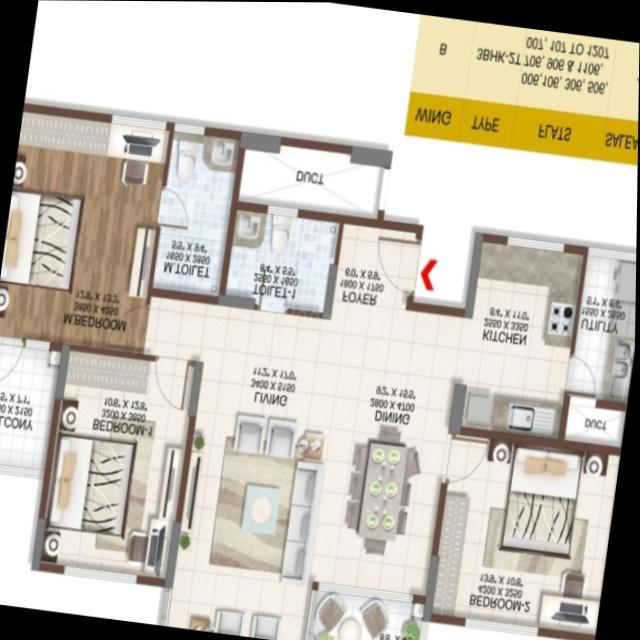Balcony-Sitout: (0, 334, 66, 477)
Bedroom: (423, 425, 622, 640), (32, 341, 201, 585)
Bedroom with Toilet: (0, 102, 244, 351)
Enterance-Foyer: (331, 216, 448, 313)
Kitchen: (452, 232, 587, 444)
Living: (167, 359, 342, 640), (340, 415, 426, 562)
Toilet: (149, 123, 243, 303), (220, 203, 344, 314)
Utility: (562, 242, 637, 407)
